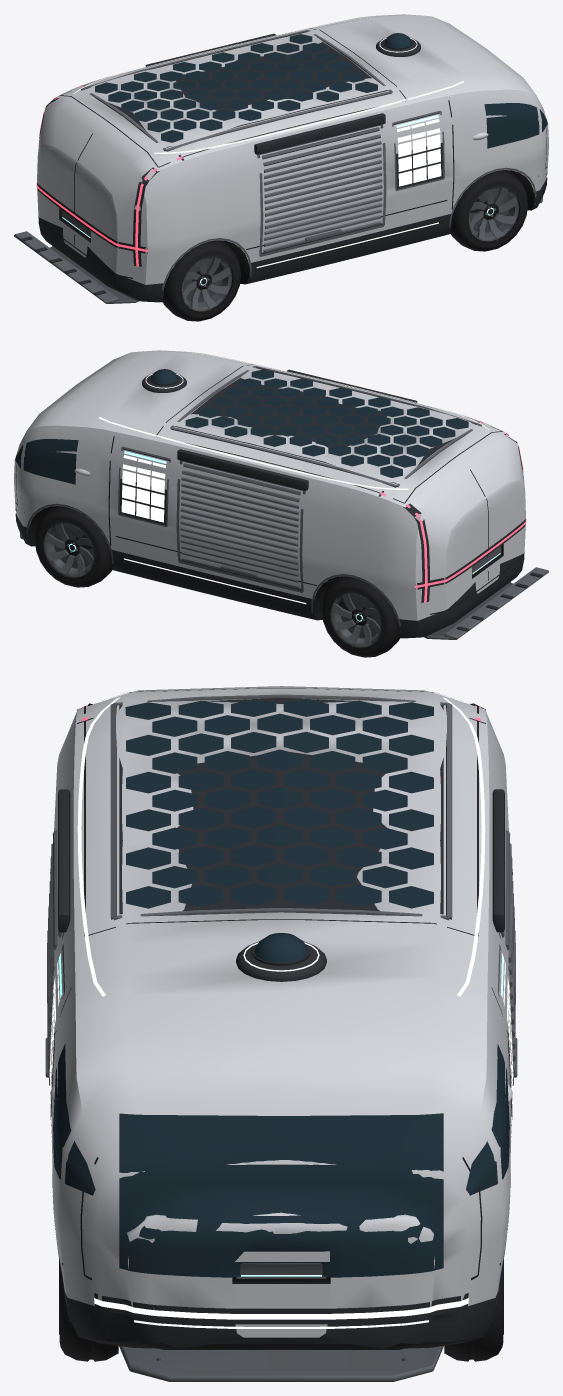
Rendered from pod325.glb.
3 renders of one model, top to bottom at view 1: azimuth 30°, elevation 25°; view 2: azimuth 150°, elevation 25°; view 3: azimuth 270°, elevation 25°, orthographic. The views are drawn at different scales.
Visible parts, largest first — view 1: f162-body.001, f162-glass, f162-trim, f325-dark, f325-dark-lower, f325-led, f162-wheel-rr-tire, f162-wheel-fr-tire, f162-wheel-fr-trim, f162-wheel-rr-trim, f162-tire, f162-tire-arch (+1 smaller); view 2: f162-body.001, f162-glass, f162-trim, f325-dark, f325-dark-lower, f325-led, f162-wheel-rl-tire, f162-wheel-fl-tire, f162-wheel-fl-trim, f162-wheel-rl-trim, f162-tire, f162-tire-arch (+1 smaller); view 3: f162-body.001, f162-glass, f162-trim, f325-dark, f325-dark-lower, f325-led, f162-tire-arch, f162-head, f162-tire, f162-wheel-fl-tire, f162-wheel-fr-tire.
Part boxes in pixels (x1,y1,x2,y2): f162-body.001: (37, 14, 548, 284); f162-glass: (95, 33, 547, 148); f162-trim: (14, 30, 543, 303); f325-dark: (20, 31, 547, 295); f325-dark-lower: (38, 179, 547, 302); f325-led: (73, 16, 463, 268); f162-wheel-rr-tire: (163, 240, 241, 321); f162-wheel-fr-tire: (450, 170, 527, 251); f162-wheel-fr-trim: (468, 186, 519, 241); f162-wheel-rr-trim: (181, 256, 232, 311); f162-tire: (39, 28, 546, 278); f162-tire-arch: (59, 170, 534, 301); f162-body.001: (14, 350, 525, 620); f162-glass: (15, 369, 468, 484); f162-trim: (19, 366, 548, 639); f325-dark: (15, 367, 542, 631); f325-dark-lower: (15, 515, 524, 638); f325-led: (99, 352, 489, 604); f162-wheel-rl-tire: (321, 576, 399, 657); f162-wheel-fl-tire: (35, 506, 112, 587); f162-wheel-fl-trim: (43, 522, 94, 577); f162-wheel-rl-trim: (330, 592, 381, 647); f162-tire: (16, 364, 523, 614); f162-tire-arch: (28, 506, 503, 637); f162-body.001: (50, 686, 512, 1337); f162-glass: (53, 699, 509, 1277); f162-trim: (45, 694, 517, 1381); f325-dark: (50, 698, 512, 1324); f325-dark-lower: (65, 1292, 497, 1348); f325-led: (49, 697, 513, 1328); f162-tire-arch: (79, 1277, 483, 1349); f162-head: (94, 1298, 468, 1319); f162-tire: (51, 688, 511, 1280); f162-wheel-fl-tire: (444, 1259, 503, 1361); f162-wheel-fr-tire: (59, 1259, 118, 1361).
Bounding box in the file's own units: 4.32 × 1.69 × 1.92.
